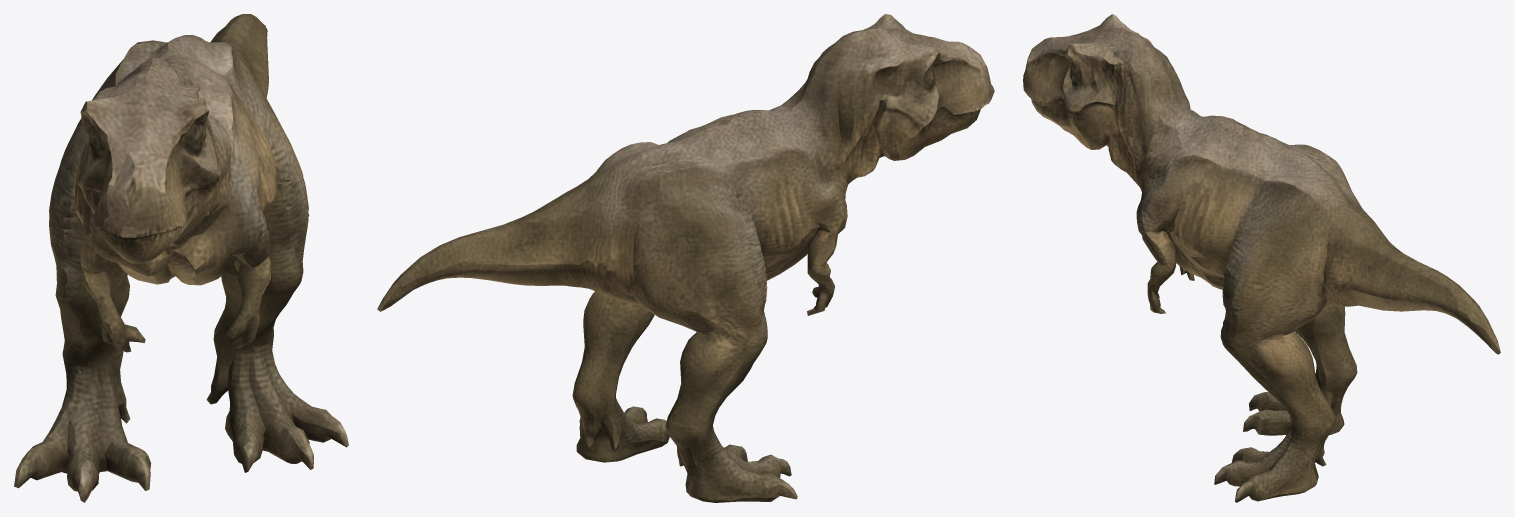
3 views of the same model, side by side, from view 1: azimuth 30°, elevation 25°; view 2: azimuth 150°, elevation 25°; view 3: azimuth 270°, elevation 25° (orthographic). The views are drawn at different scales.
Parts seen in each view (by area): view 1: world; view 2: world; view 3: world.
Part boxes in pixels (x1,y1,x2,y2): world: [14, 14, 348, 502]; world: [377, 14, 994, 502]; world: [1023, 14, 1500, 502].
Bounding box in the file's own units: 0.45 × 0.4675 × 0.5408.
Materials: 1 (1 with a texture image).
